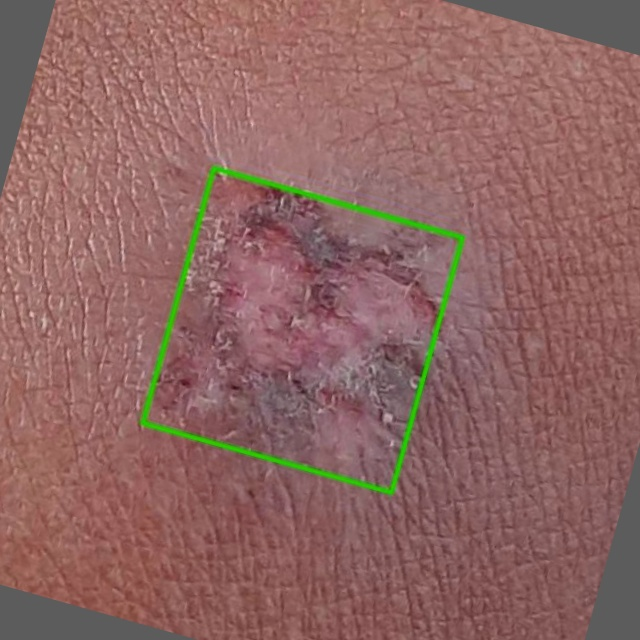Contact Dermatitis: (142, 168, 462, 492)
